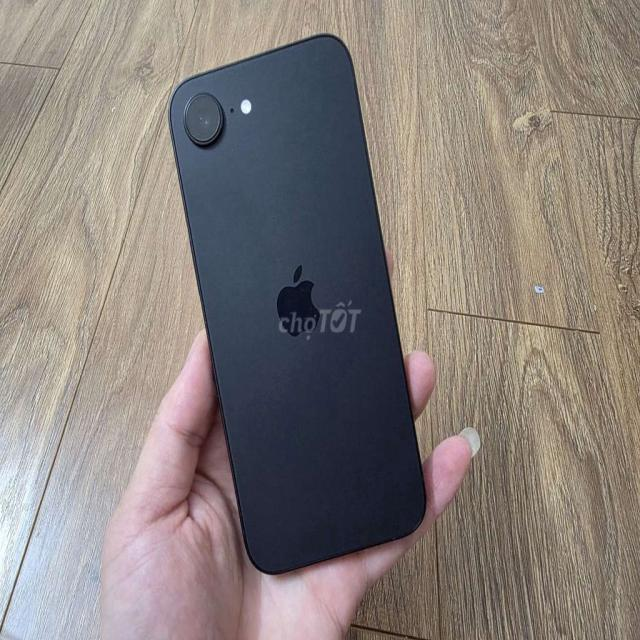gen_16: (169, 36, 425, 572)
